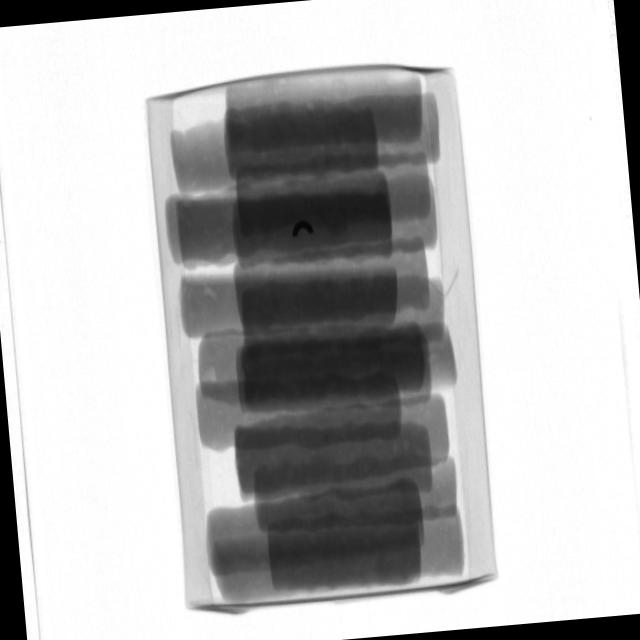ym: (294, 219, 314, 236)
